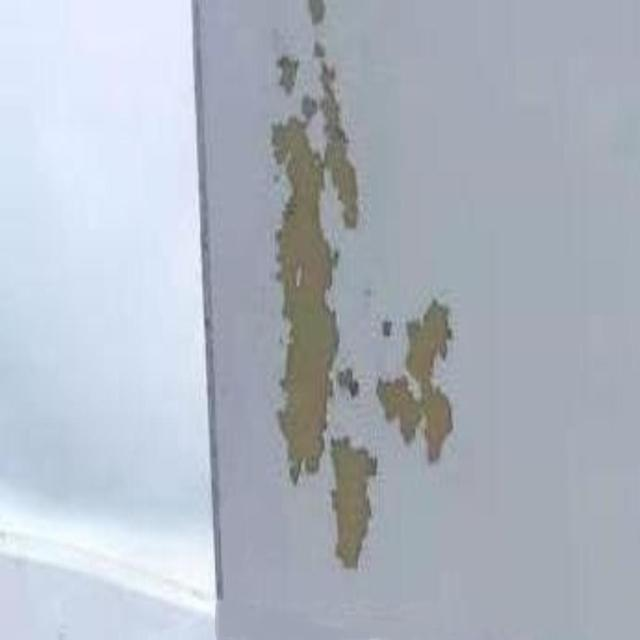surface_peeling: (268, 6, 360, 480), (375, 293, 464, 465), (326, 434, 379, 574)
